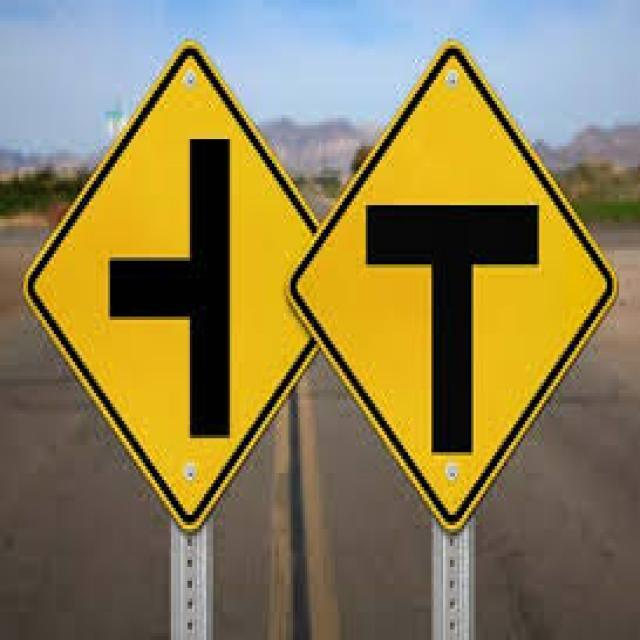t intersection: (290, 47, 606, 512)
